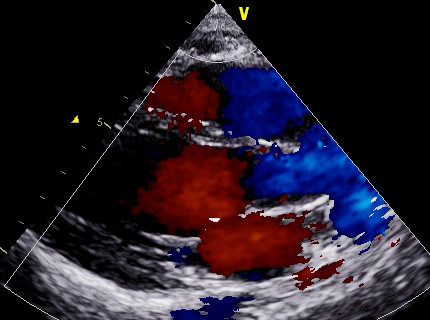AR: (146, 132, 262, 225)
